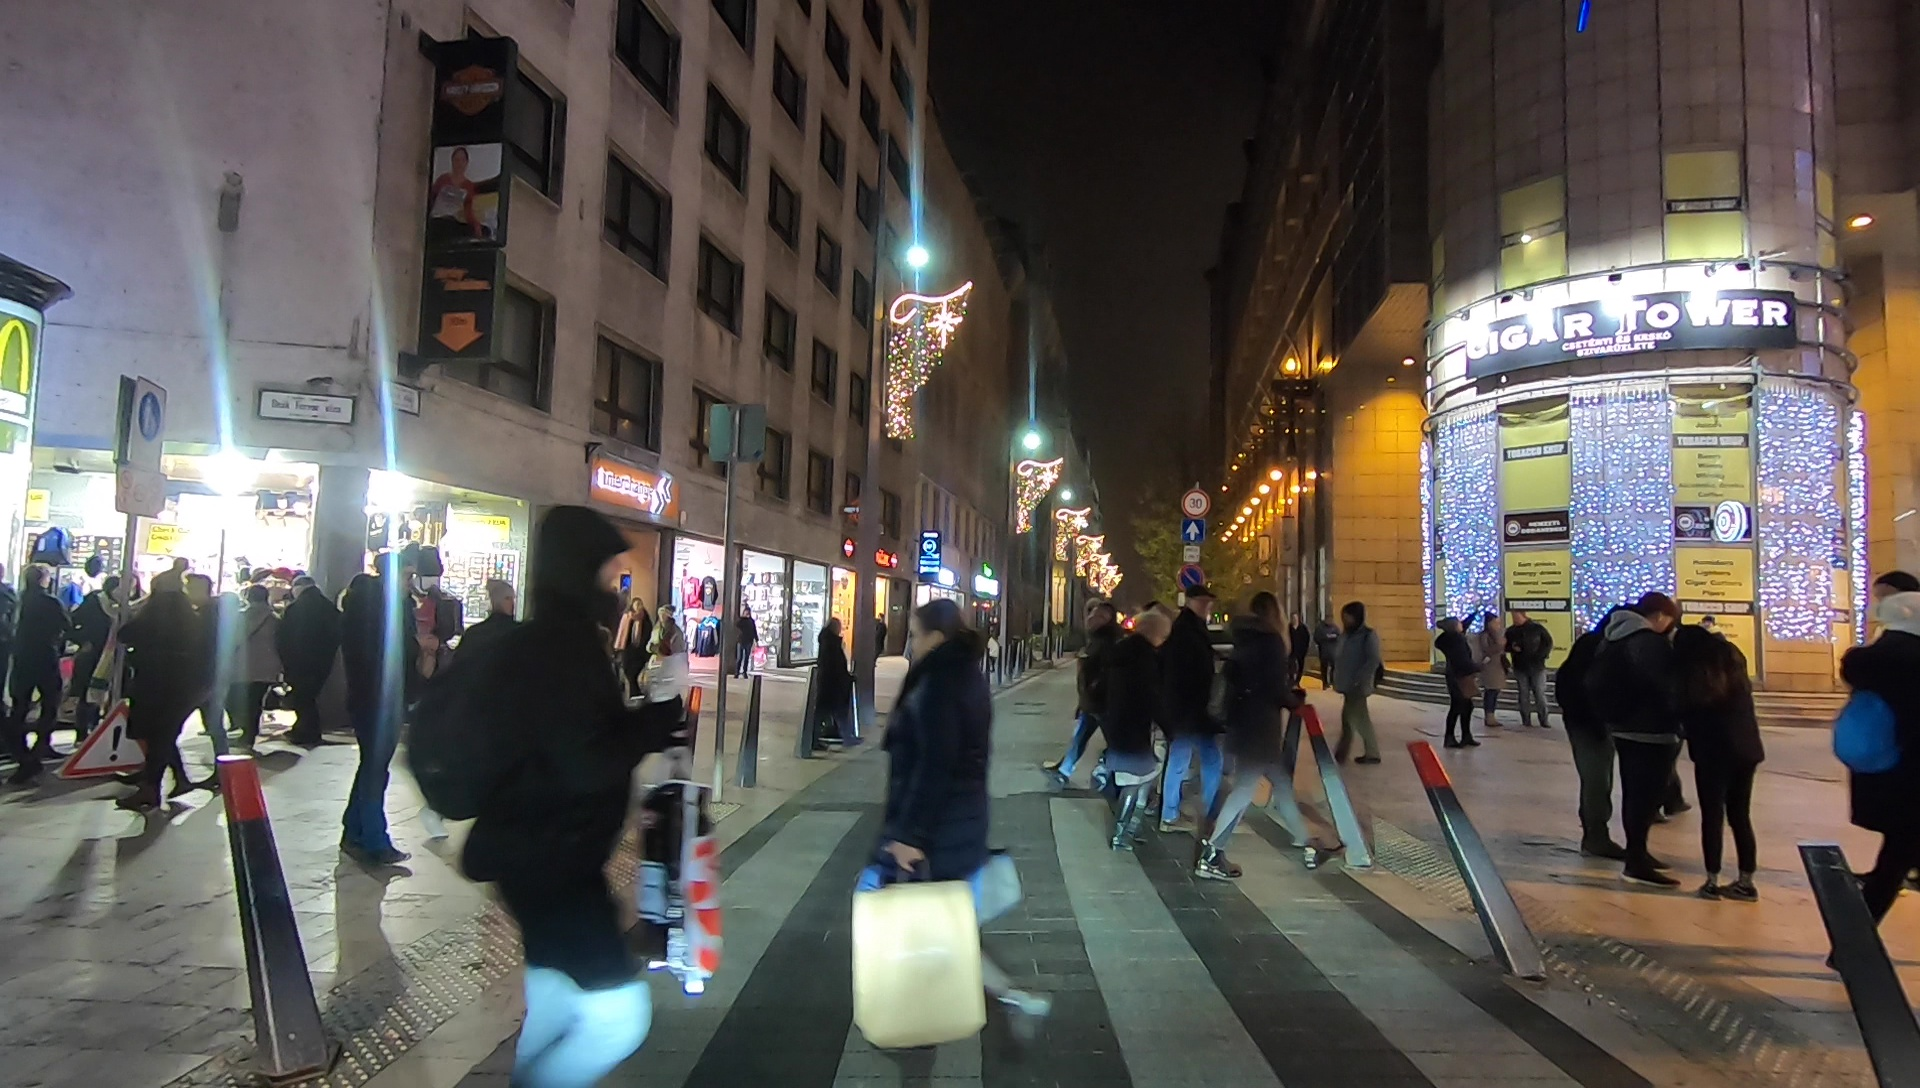person: (414, 519, 647, 1088), (852, 604, 1054, 1056), (1828, 569, 1920, 966), (1206, 597, 1332, 884), (338, 549, 421, 869), (1684, 604, 1765, 915), (1601, 597, 1684, 889), (121, 558, 197, 811), (395, 537, 462, 808), (1156, 587, 1226, 843), (1102, 604, 1171, 858), (1052, 589, 1121, 786), (465, 567, 525, 793), (182, 567, 234, 787), (1321, 602, 1389, 769), (280, 569, 332, 758), (15, 571, 62, 758), (1426, 608, 1478, 763), (73, 571, 117, 747), (234, 580, 276, 763), (810, 619, 856, 758), (1504, 604, 1554, 728), (1473, 604, 1506, 724), (649, 604, 688, 693), (615, 600, 656, 682)
